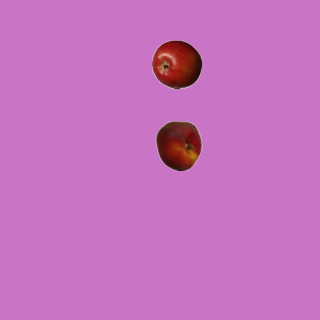Apple Braeburn: (151, 39, 201, 89)
Nectarine Flat: (153, 120, 203, 170)
